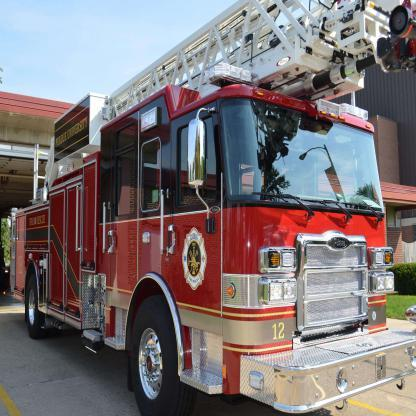fire-truck: (13, 66, 415, 416)
